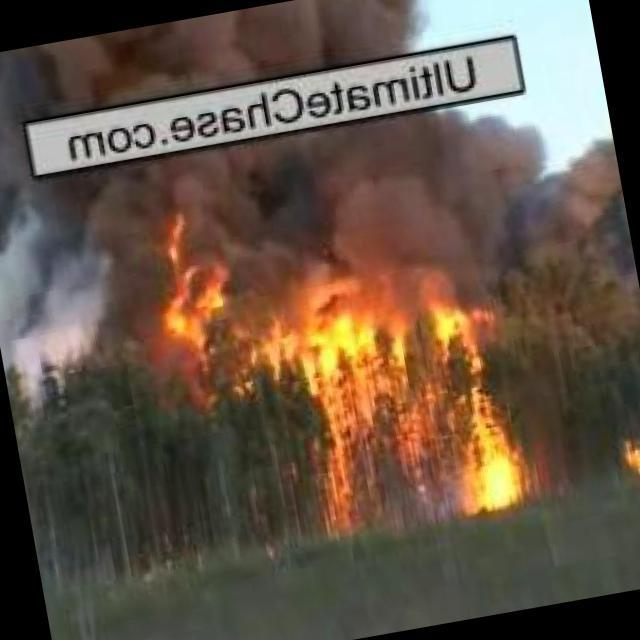Fire: (287, 307, 555, 562), (133, 230, 249, 367), (620, 434, 640, 483)
